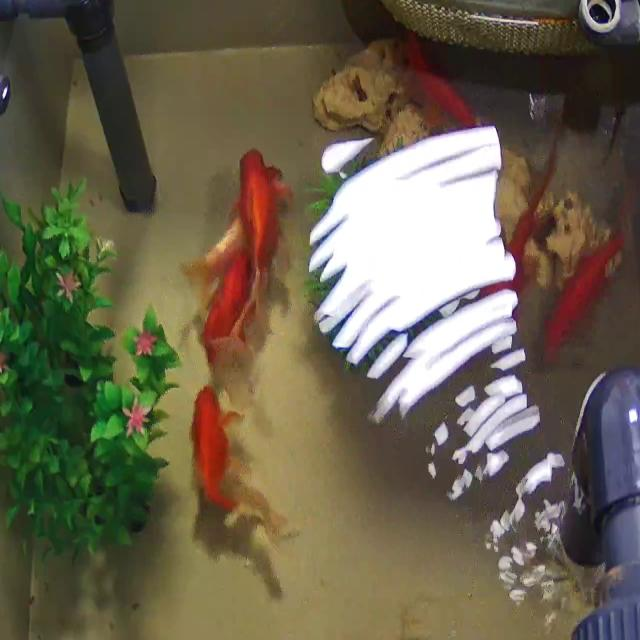fish: (190, 378, 291, 544), (542, 217, 633, 361), (395, 29, 479, 132), (237, 144, 292, 284), (199, 245, 256, 367), (504, 194, 550, 284)
